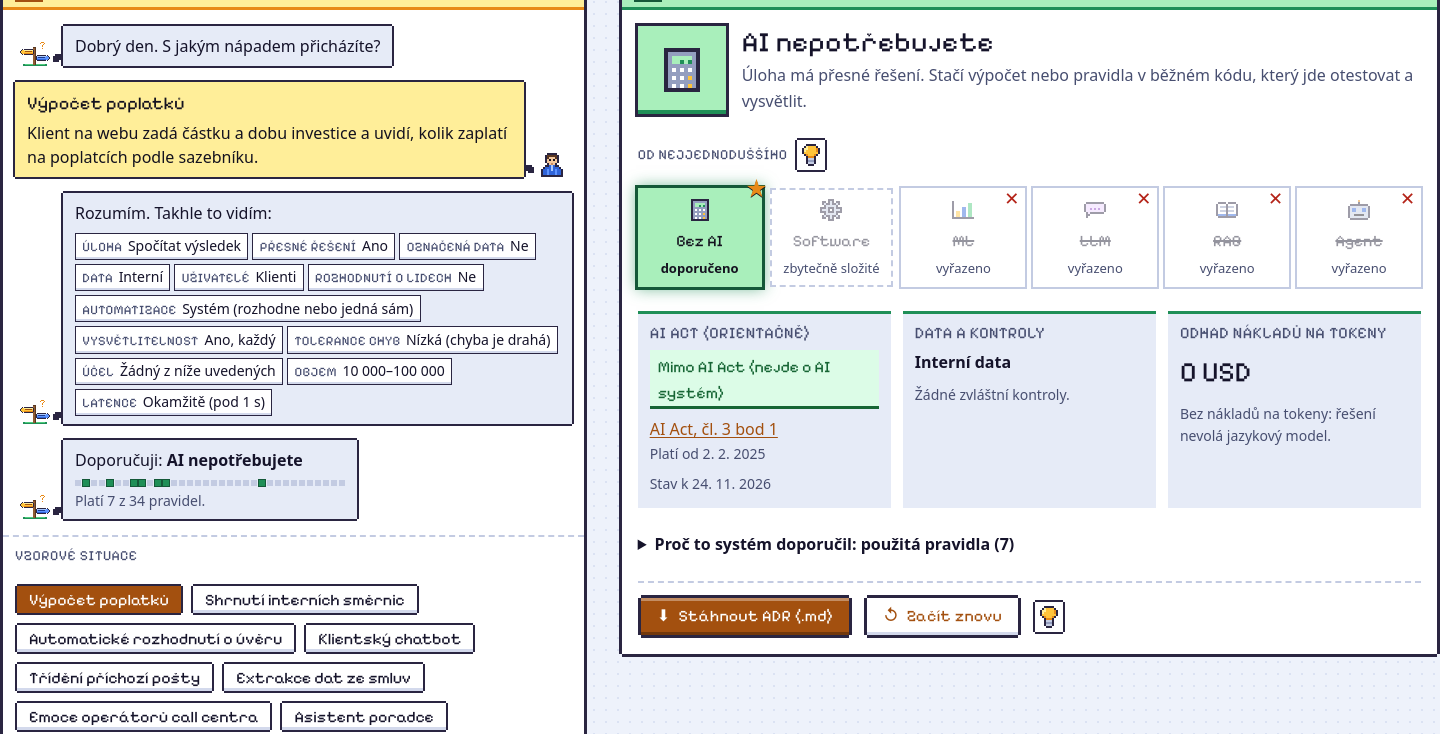
Test: IntakePage › a credit decision is high-risk and keeps a human in the loop
(page scrolled)
Click the button "Automatické rozhodnutí o úvěru" at [156, 638], box [17, 625, 294, 652]
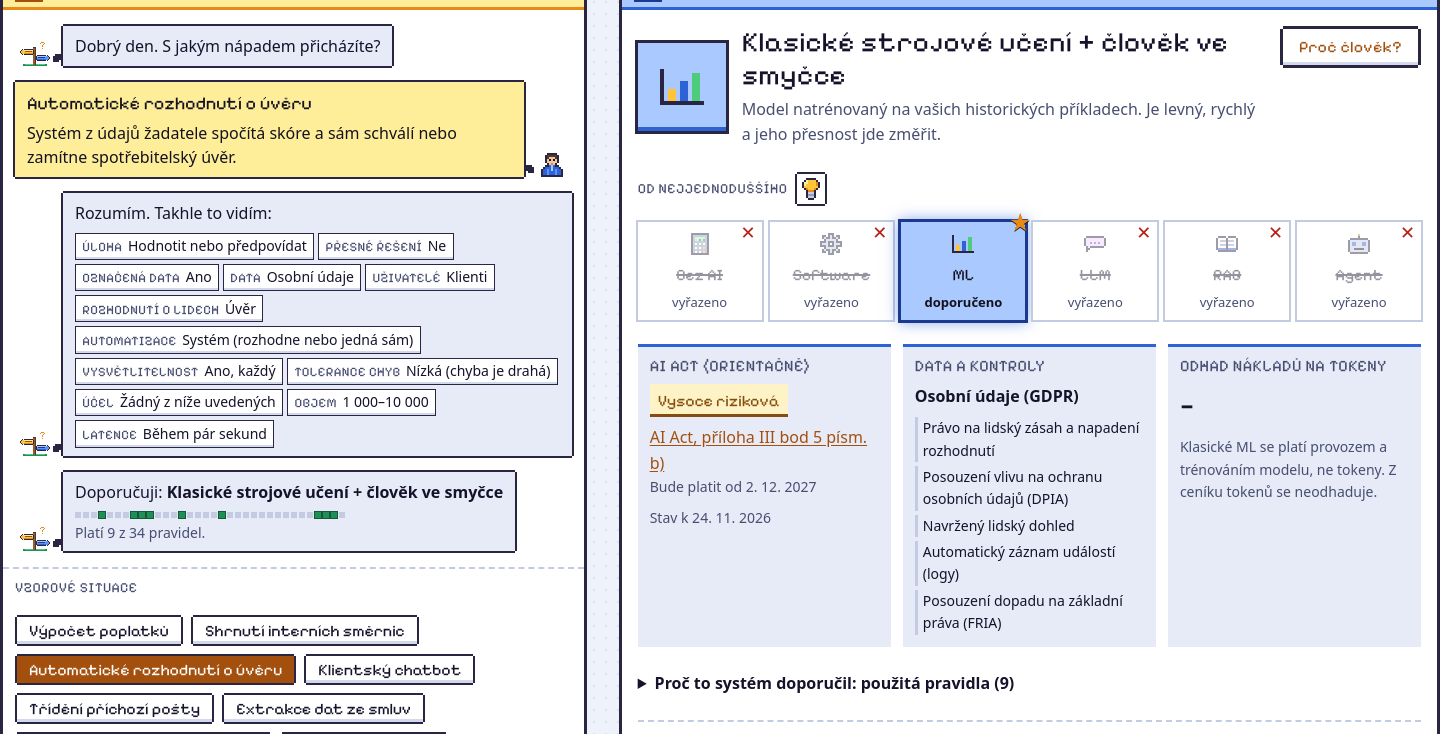
Expected: the text "Klasické strojové učení + člověk ve smyčce" is shown, [167, 481, 503, 503]
Expected: the text "Vysoce riziková" is shown, [650, 384, 788, 417]
Expected: the link "AI Act, příloha III bod 5 písm. b)" is shown, [650, 426, 867, 474]
